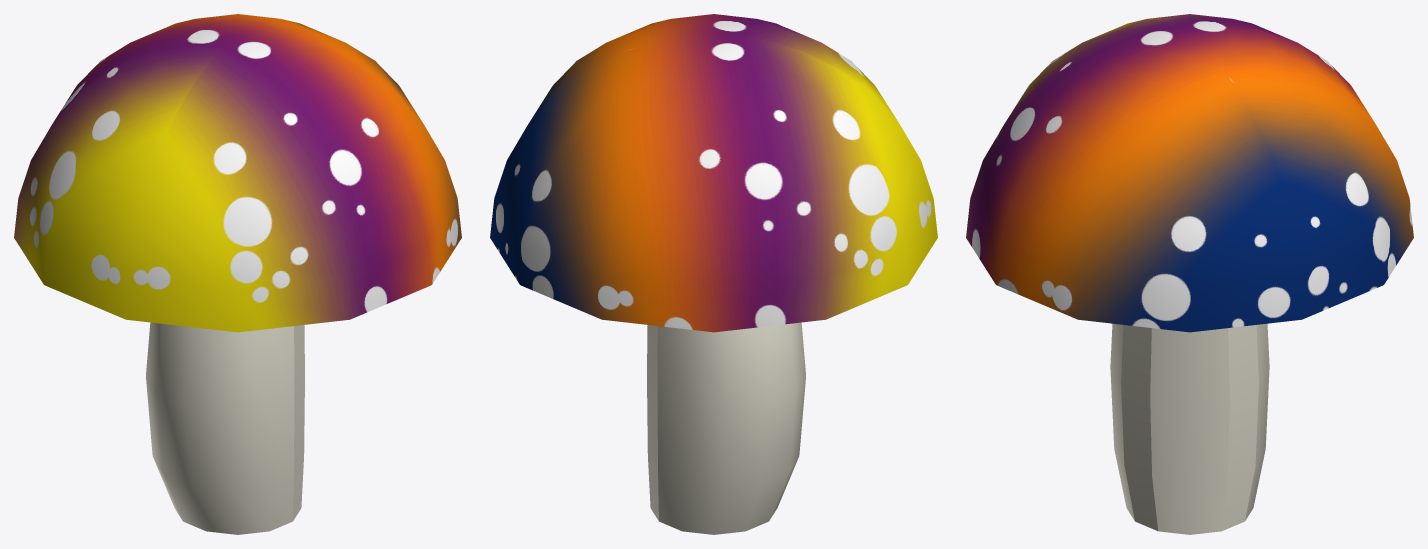
File: shroom2.fbx
3 renders of one model, left to right at view 1: azimuth 30°, elevation 25°; view 2: azimuth 150°, elevation 25°; view 3: azimuth 270°, elevation 25°, orthographic.
Parts seen in each view (by area): view 1: shroom; view 2: shroom; view 3: shroom.
Boxes of the visible parts, box(x1,y1,x2,y2) form: shroom: box(14, 14, 461, 534); shroom: box(490, 14, 937, 534); shroom: box(966, 14, 1413, 534).
Bounding box in the file's own units: 200 × 233 × 200.
